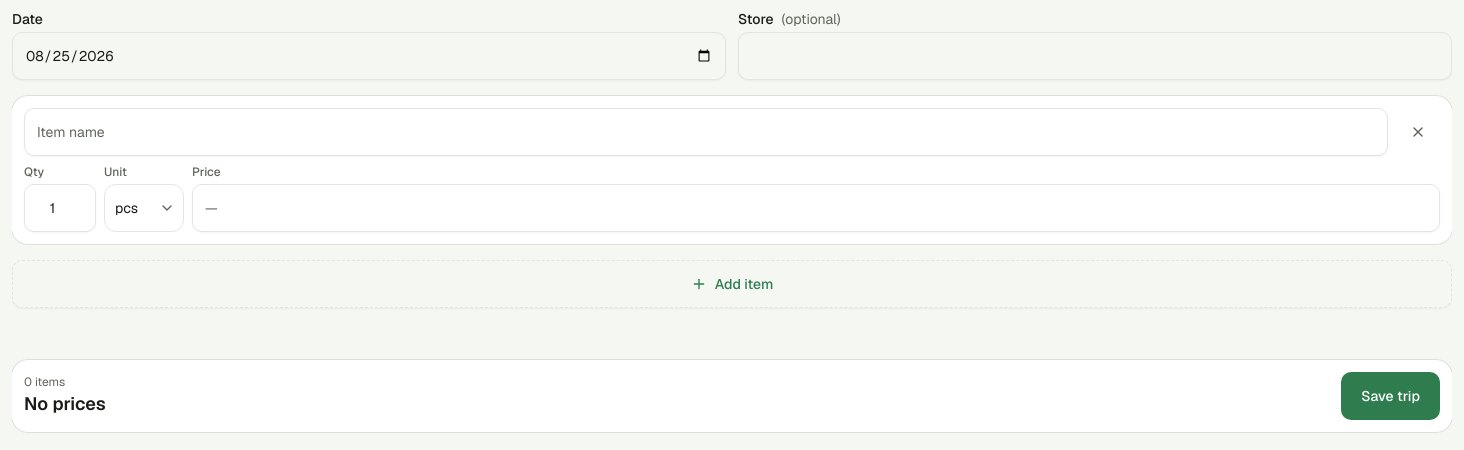
Test case: TripForm › adopts the unit a known item is usually bought in
The width and height of the screenshot is (1464, 450).
In the field named "Item 1": (706, 132) [24, 108, 1388, 156], type "Rice"
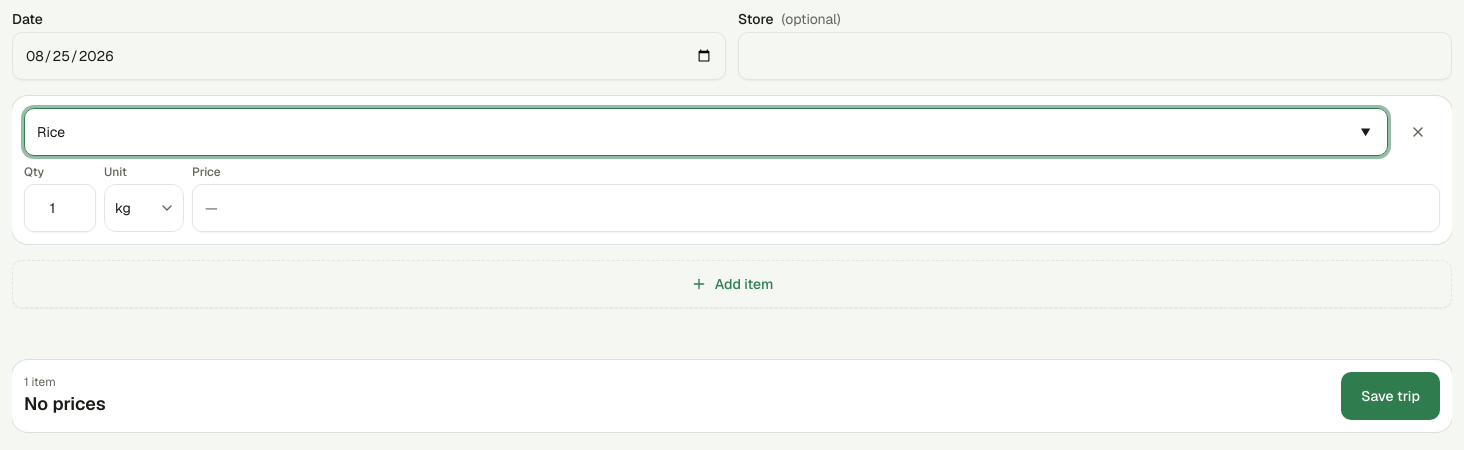
expect the dropdown named "Unit" shows "kg": met, box [104, 184, 184, 232]
